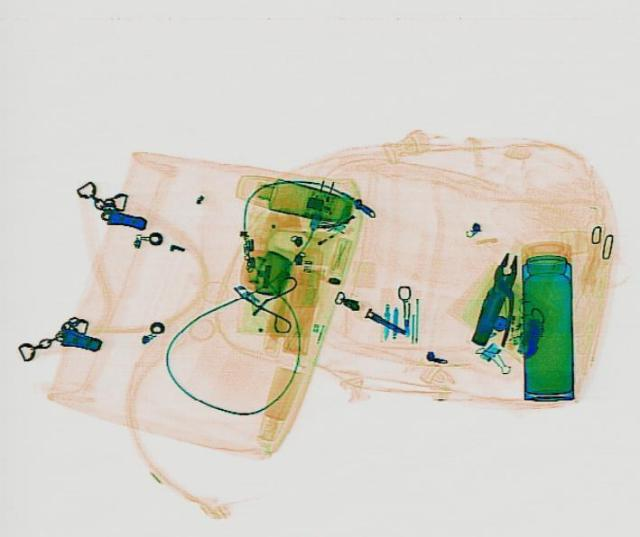Pliers: (471, 251, 524, 346)
